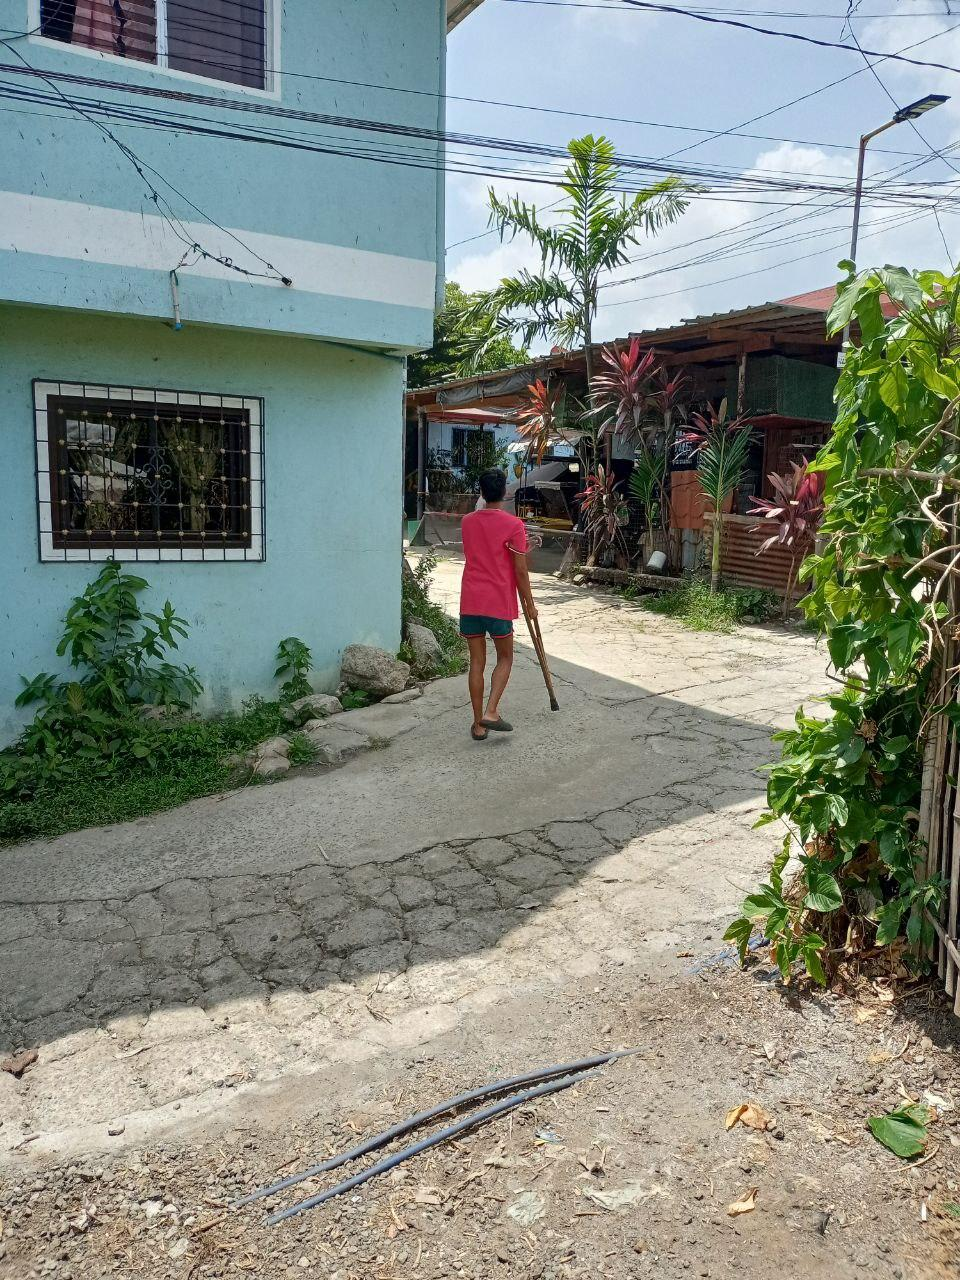crutches: (458, 470, 561, 741)
